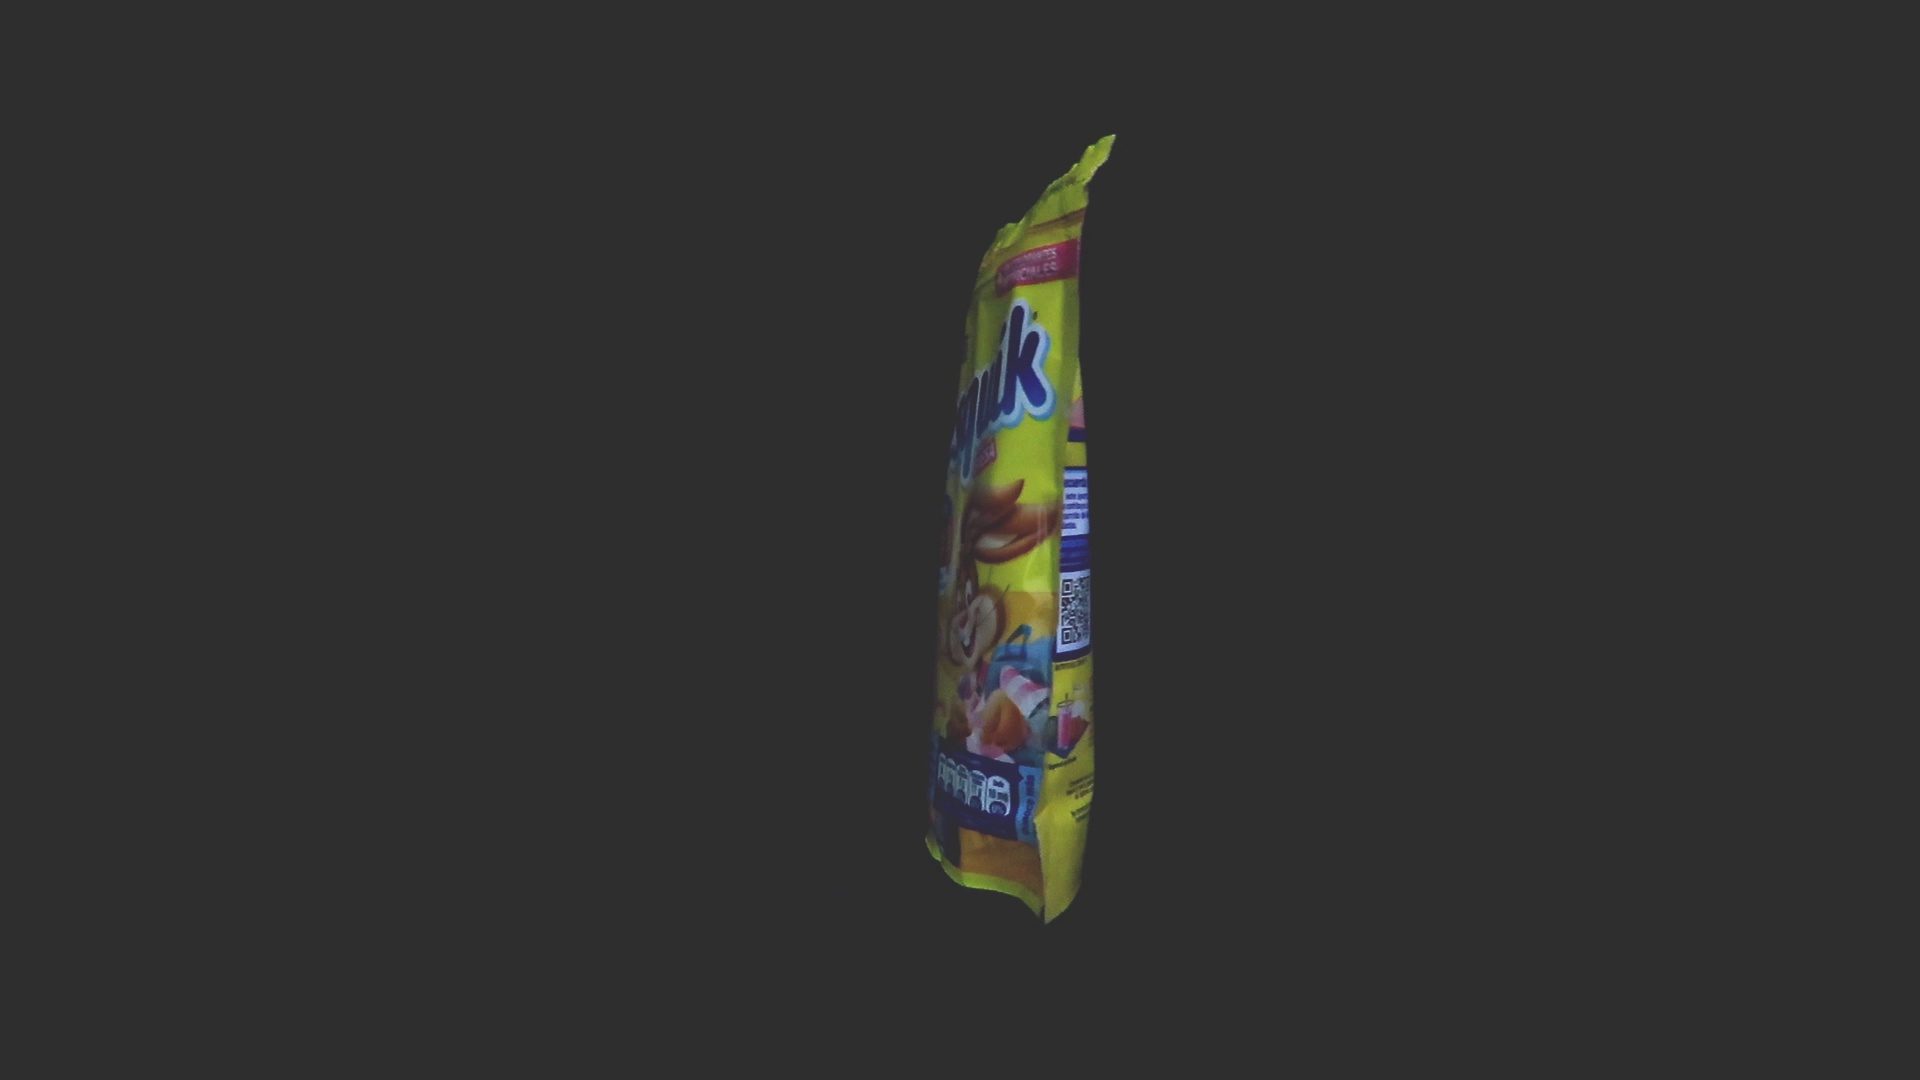COL0170305DYP20000: (920, 129, 1122, 930)
